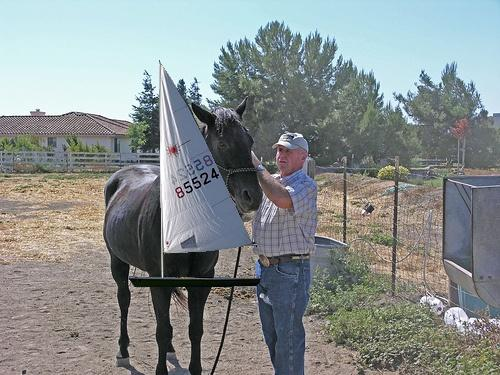tampered: (129, 61, 261, 287)
